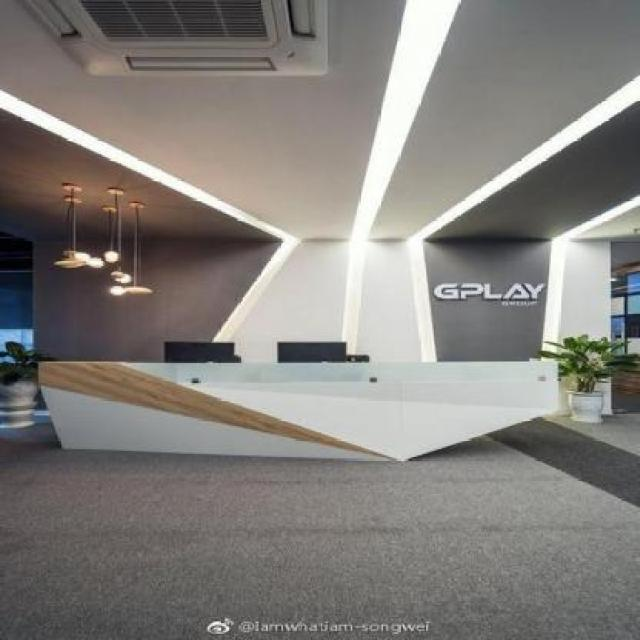frontdesk: (20, 348, 581, 467)
